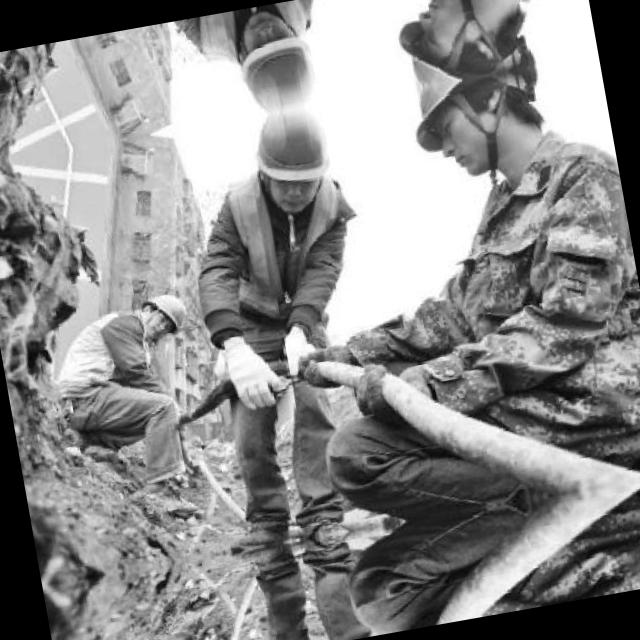helmet: (397, 64, 554, 198), (378, 0, 536, 90), (226, 0, 328, 118), (245, 102, 345, 222), (132, 286, 187, 342)
